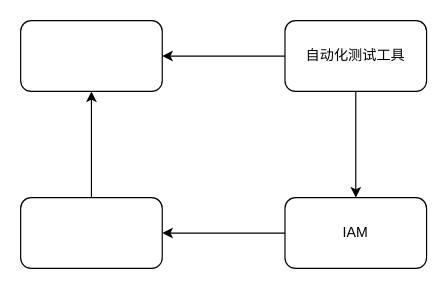
This 447x289 diagram has some shape labels left out. The centre of each missing label's shape, as x and y in pixels:
手机: [90,232]
短信接收平台: [90,55]
